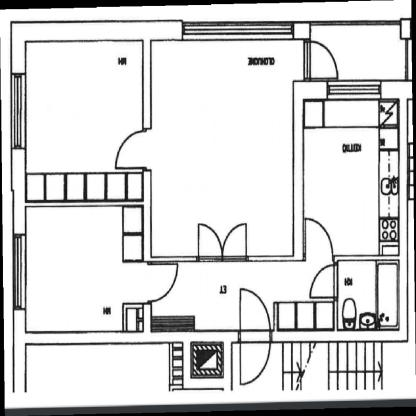door: (150, 102, 399, 328), (150, 39, 304, 256), (26, 39, 142, 200), (24, 206, 148, 334), (311, 26, 407, 79), (339, 262, 397, 328)
window: (238, 288, 272, 388), (197, 222, 247, 259), (114, 128, 150, 169), (304, 41, 340, 80), (304, 216, 334, 258), (148, 262, 178, 300), (308, 264, 337, 300)
zone: (182, 21, 292, 39), (12, 73, 26, 148), (12, 234, 25, 308), (327, 82, 381, 97)
